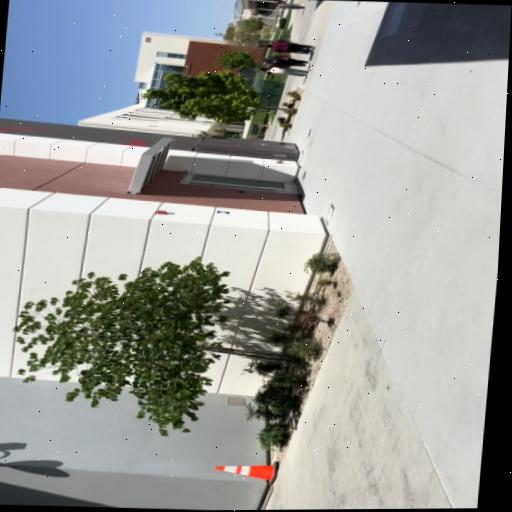target6: (216, 210, 230, 213)
